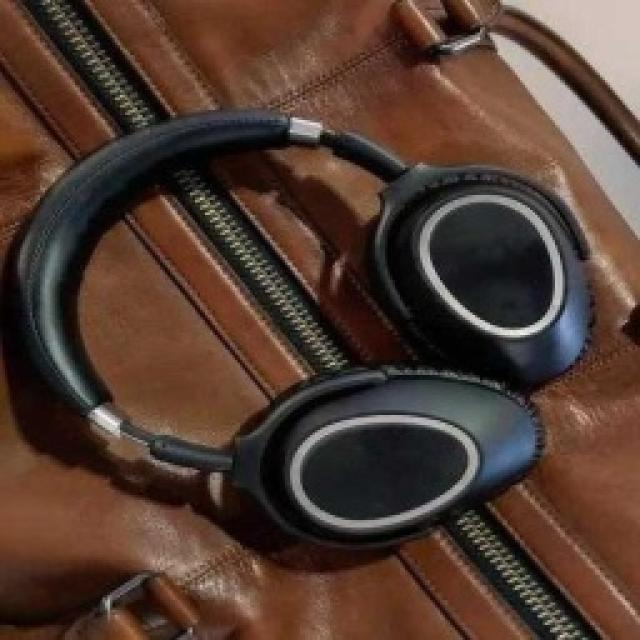headphones: (10, 105, 595, 550)
